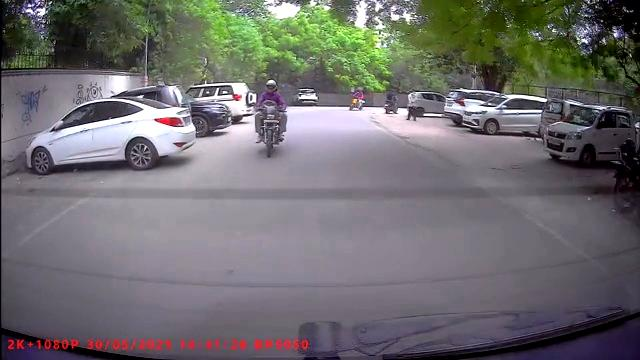motorcycle_with_helmet: (253, 77, 289, 158)
